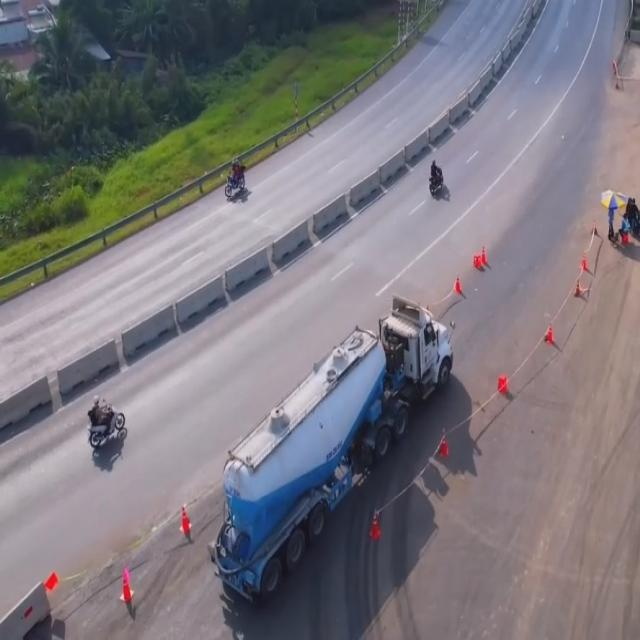motorbike: (89, 398, 125, 457), (226, 158, 250, 204), (428, 157, 444, 197)
truck: (211, 298, 455, 608)
